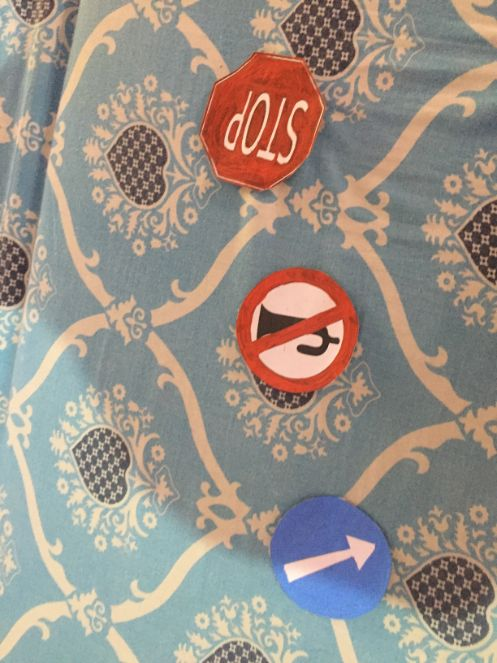keep-left: (268, 496, 391, 619)
stop: (198, 52, 332, 186)
u-turn: (236, 266, 358, 388)
